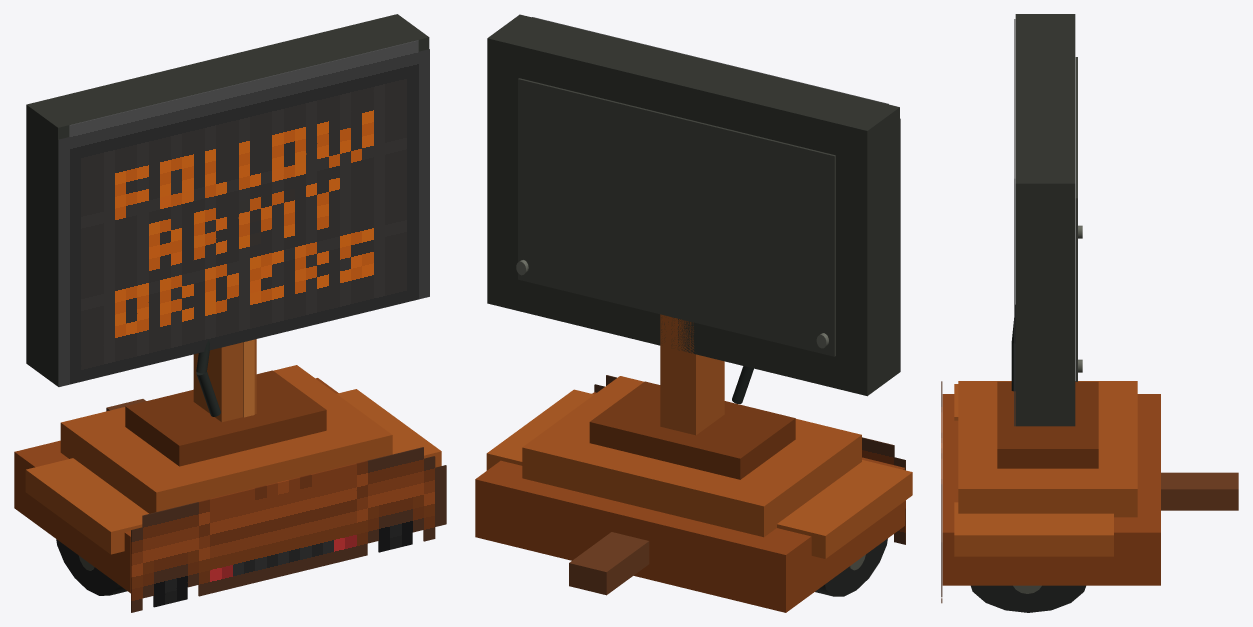
Rendered from CMU3DTrafficDirector4D1Cloud.glb.
The picture shows the model from 3 angles, left to right: view 1: azimuth 30°, elevation 25°; view 2: azimuth 150°, elevation 25°; view 3: azimuth 270°, elevation 25°; orthographic projection. The views are drawn at different scales.
Visible parts, largest first — view 1: exact source message and border, source directional orange chassis and lights, thick dark sign cabinet, upper sloping orange housing, central mast foot, orange fender (×2), deep orange trailer chassis, orange vertical mast, black trailer wheel, mast light edge; view 2: rear cabinet access hatch, thick dark sign cabinet, deep orange trailer chassis, upper sloping orange housing, central mast foot, orange fender (×2), orange vertical mast, trailer rear drawbeam, black trailer wheel, source directional orange chassis and lights, exact source message and border; view 3: thick dark sign cabinet, upper sloping orange housing, deep orange trailer chassis, orange fender, central mast foot, trailer rear drawbeam, black trailer wheel, rear cabinet access hatch, exact source message and border, source directional orange chassis and lights.
Boxes of the visible parts, x1,y1,x2,y2 form: exact source message and border: [58, 40, 429, 386]; source directional orange chassis and lights: [131, 447, 446, 612]; thick dark sign cabinet: [26, 14, 429, 386]; upper sloping orange housing: [60, 365, 392, 513]; central mast foot: [125, 370, 326, 466]; orange fender (×2): [25, 389, 441, 554]; deep orange trailer chassis: [14, 378, 338, 593]; orange vertical mast: [193, 339, 256, 422]; black trailer wheel: [56, 539, 127, 595]; mast light edge: [243, 339, 254, 417]; rear cabinet access hatch: [518, 78, 835, 356]; thick dark sign cabinet: [487, 14, 899, 396]; deep orange trailer chassis: [475, 392, 904, 612]; upper sloping orange housing: [522, 376, 861, 537]; central mast foot: [589, 381, 795, 479]; orange fender (×2): [486, 389, 912, 558]; orange vertical mast: [660, 314, 724, 435]; trailer rear drawbeam: [569, 532, 649, 595]; black trailer wheel: [815, 538, 887, 596]; source directional orange chassis and lights: [594, 375, 905, 544]; exact source message and border: [532, 17, 900, 371]; thick dark sign cabinet: [1015, 14, 1075, 426]; upper sloping orange housing: [958, 381, 1137, 517]; deep orange trailer chassis: [942, 394, 1160, 585]; orange fender: [954, 502, 1113, 556]; central mast foot: [997, 381, 1098, 468]; trailer rear drawbeam: [1161, 472, 1238, 510]; black trailer wheel: [971, 585, 1085, 612]; rear cabinet access hatch: [1075, 57, 1077, 381]; exact source message and border: [1014, 19, 1015, 426]; source directional orange chassis and lights: [941, 381, 942, 603].
Bounding box in the file's own units: 1.03 × 1.26 × 0.764.
15 materials, 2 textured.
